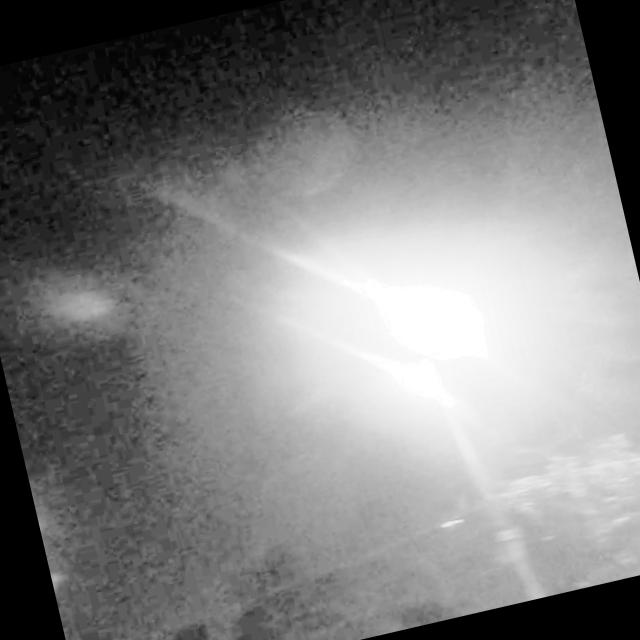Light: (360, 252, 492, 377), (378, 334, 461, 424)
